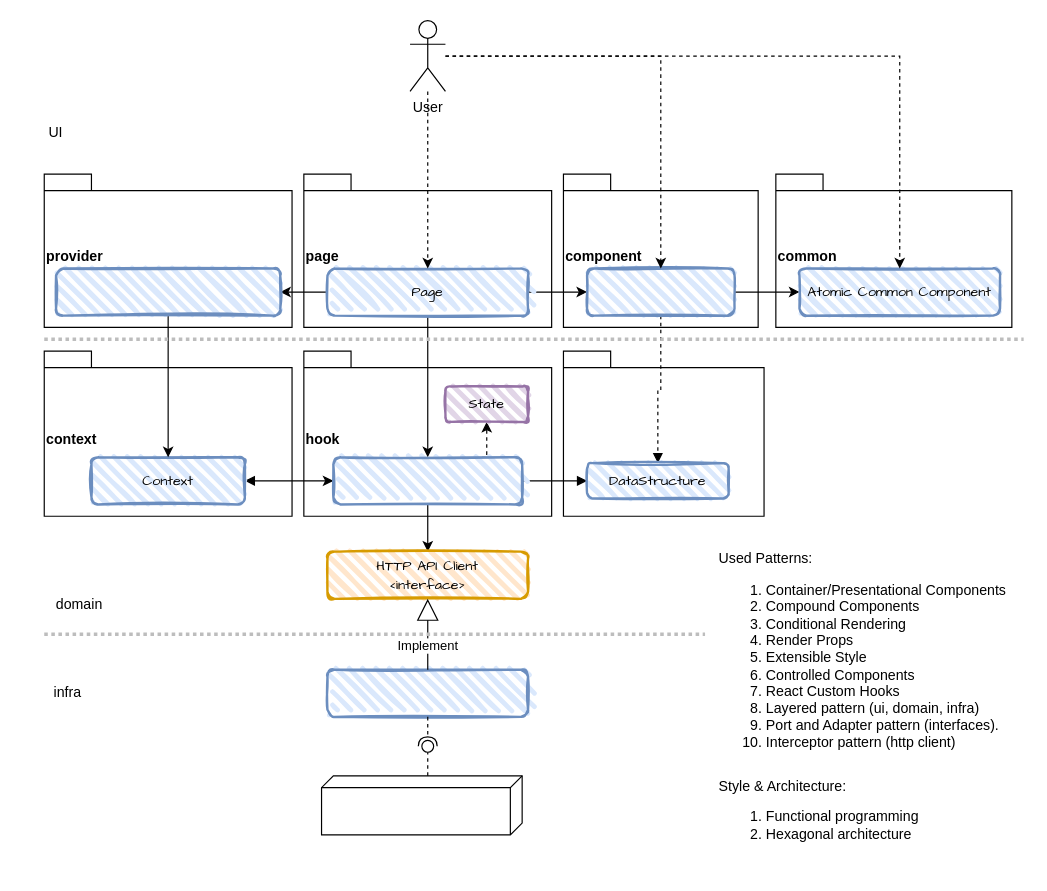
This 1047x891 diagram has some shape labels left out. Here are the shapes that lost their labels. From the top down, the box of each, then its label:
(54, 267, 281, 316): Context Provider
(585, 267, 735, 316): Custom Component
(562, 350, 764, 516): model
(332, 455, 523, 505): Custom Hook
(326, 668, 529, 717): HTTP API Client <implementation>
(320, 775, 522, 835): Services Servers (API Rest)
